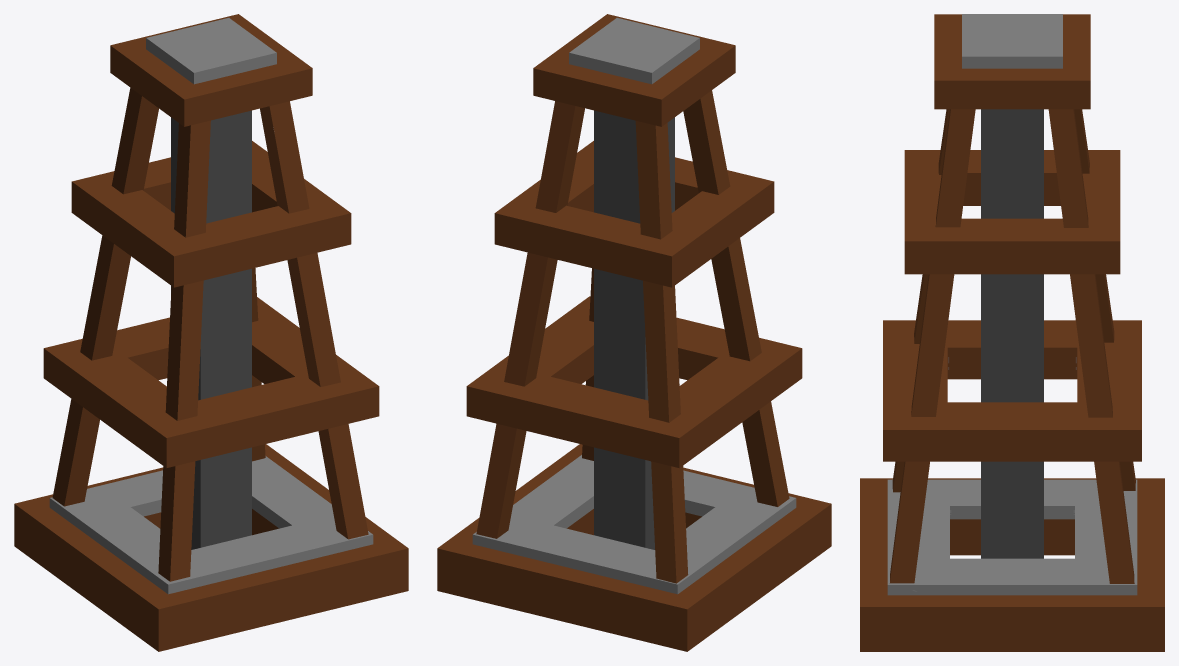
File: drill.dae
3 views of the same model, side by side, from view 1: azimuth 30°, elevation 25°; view 2: azimuth 150°, elevation 25°; view 3: azimuth 270°, elevation 25° (orthographic). The views are drawn at different scales.
Visible parts, largest first — view 1: pierscien1, podstawaDrewno, pierscien2, podstawaMetal, Wiertlo, przeslo1, przeslo2, przeslo4, pierscien3, goraMetal; view 2: pierscien1, podstawaDrewno, pierscien2, podstawaMetal, Wiertlo, przeslo4, przeslo3, przeslo1, pierscien3, goraMetal; view 3: podstawaDrewno, pierscien1, Wiertlo, pierscien2, podstawaMetal, przeslo3, przeslo2, pierscien3, goraMetal, przeslo4, przeslo1.
Boxes of the visible parts, bbox=[...] form: pierscien1: bbox=[43, 297, 379, 468]; podstawaDrewno: bbox=[14, 444, 408, 651]; pierscien2: bbox=[71, 141, 351, 287]; podstawaMetal: bbox=[49, 456, 373, 594]; Wiertlo: bbox=[171, 110, 251, 549]; przeslo1: bbox=[158, 120, 210, 581]; przeslo2: bbox=[260, 101, 368, 539]; przeslo4: bbox=[52, 87, 158, 506]; pierscien3: bbox=[110, 14, 312, 126]; goraMetal: bbox=[146, 18, 276, 84]; pierscien1: bbox=[466, 296, 802, 468]; podstawaDrewno: bbox=[437, 444, 831, 651]; pierscien2: bbox=[494, 141, 774, 287]; podstawaMetal: bbox=[472, 455, 796, 594]; Wiertlo: bbox=[594, 110, 674, 549]; przeslo4: bbox=[635, 121, 688, 583]; przeslo3: bbox=[476, 101, 584, 538]; przeslo1: bbox=[683, 90, 789, 506]; pierscien3: bbox=[533, 14, 735, 126]; goraMetal: bbox=[569, 18, 699, 84]; podstawaDrewno: bbox=[860, 478, 1164, 651]; pierscien1: bbox=[883, 320, 1141, 461]; Wiertlo: bbox=[981, 109, 1043, 558]; pierscien2: bbox=[904, 150, 1120, 274]; podstawaMetal: bbox=[887, 479, 1137, 595]; przeslo3: bbox=[1048, 109, 1134, 583]; przeslo2: bbox=[890, 109, 975, 583]; pierscien3: bbox=[934, 14, 1090, 109]; goraMetal: bbox=[962, 14, 1062, 68]; przeslo4: bbox=[1074, 109, 1135, 490]; przeslo1: bbox=[892, 109, 949, 492].
Bounding box in the file's own units: 2 × 2 × 4.
